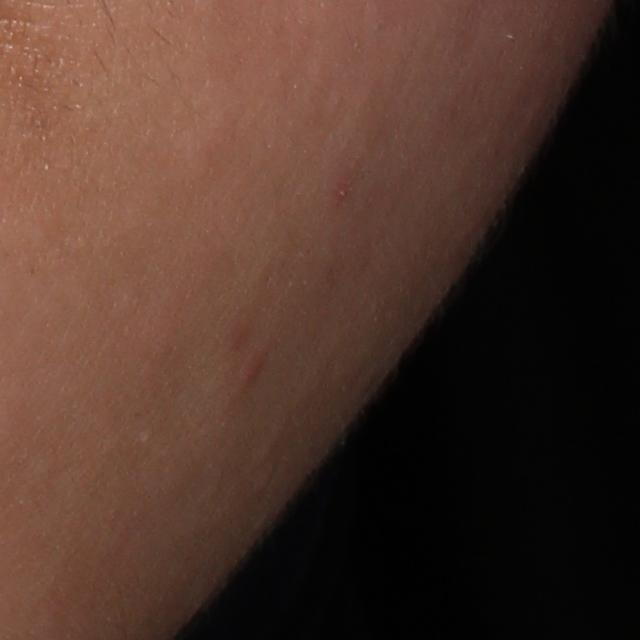papule: (235, 346, 269, 392)
